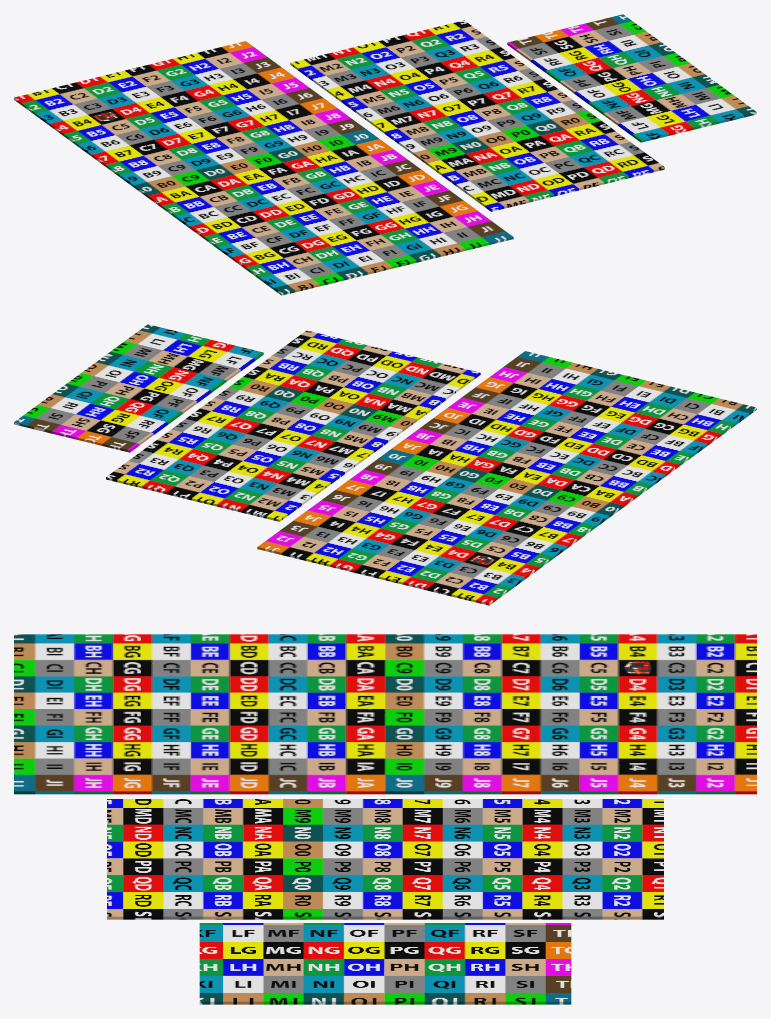
The model's file is pictureframe5.FBX.
The picture shows the model from 3 angles, top to bottom: view 1: azimuth 30°, elevation 25°; view 2: azimuth 150°, elevation 25°; view 3: azimuth 270°, elevation 25°; orthographic projection. The views are drawn at different scales.
Visible parts, largest first — view 1: pictureframe5; view 2: pictureframe5; view 3: pictureframe5.
Boxes of the visible parts, x1=… form: pictureframe5: x1=14, y1=14, x2=756, y2=295; pictureframe5: x1=14, y1=324, x2=756, y2=605; pictureframe5: x1=14, y1=634, x2=756, y2=1004.
Bounding box in the file's own units: 46.78 × 0.1823 × 40.
1 material, 1 textured.
